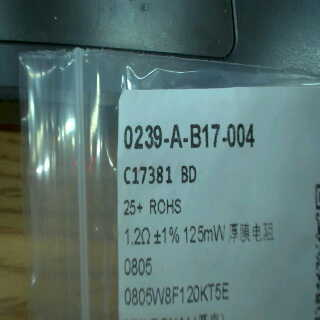1.2R: (122, 227, 155, 283)
